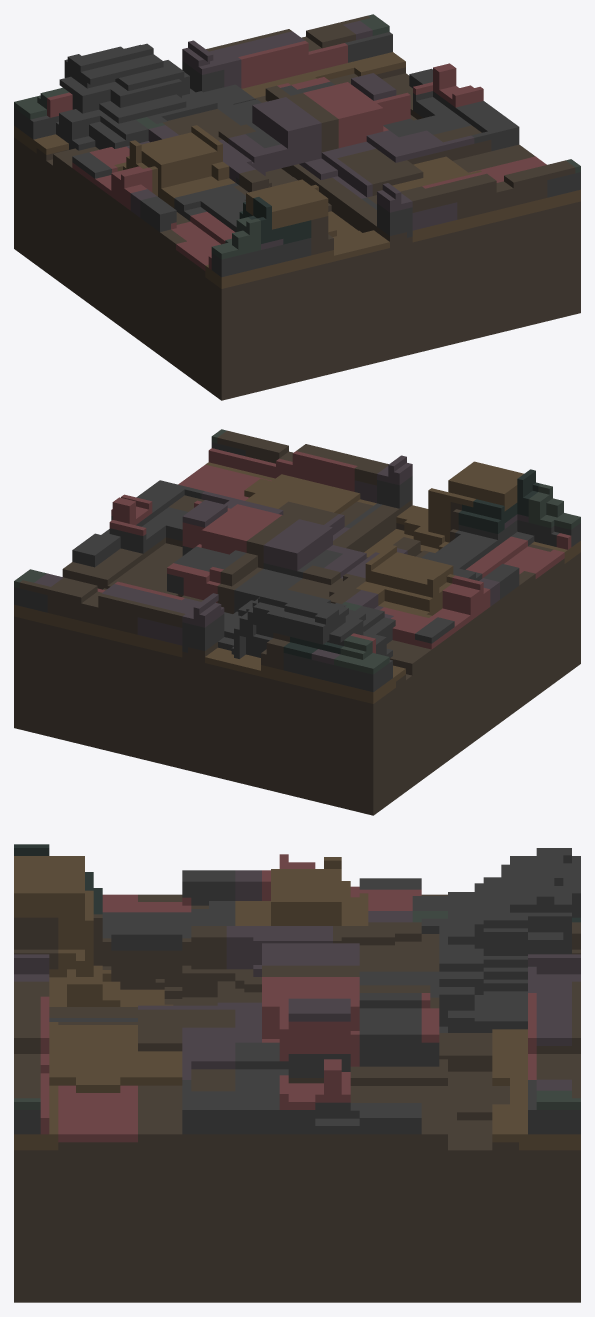
File: Smolbble Pile-0.obj
The picture shows the model from 3 angles, top to bottom: view 1: azimuth 30°, elevation 25°; view 2: azimuth 150°, elevation 25°; view 3: azimuth 270°, elevation 25°; orthographic projection. The views are drawn at different scales.
Parts seen in each view (by area): view 1: Smolbble Pile-0; view 2: Smolbble Pile-0; view 3: Smolbble Pile-0.
Part boxes in pixels (left/top/right/bottom): Smolbble Pile-0: left=14, top=14, right=580, bottom=400; Smolbble Pile-0: left=14, top=429, right=580, bottom=815; Smolbble Pile-0: left=14, top=844, right=580, bottom=1302.
Size of the model in its own units: 64 by 31 by 64.
Materials: 1 (1 with a texture image).
